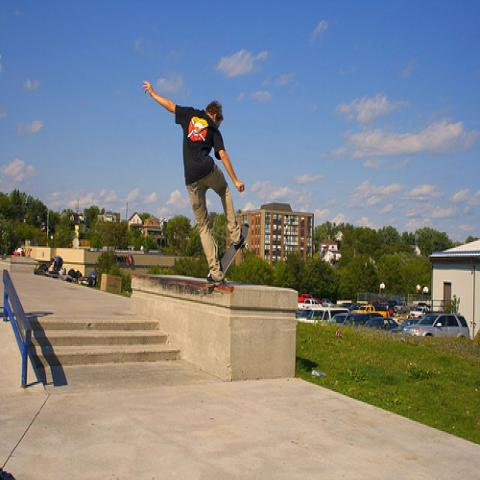car: (402, 313, 470, 338), (296, 308, 350, 324), (330, 313, 382, 326), (365, 318, 401, 332), (352, 306, 390, 317), (297, 297, 323, 309), (410, 306, 430, 317), (394, 300, 410, 312), (298, 294, 314, 303), (322, 300, 333, 307)
